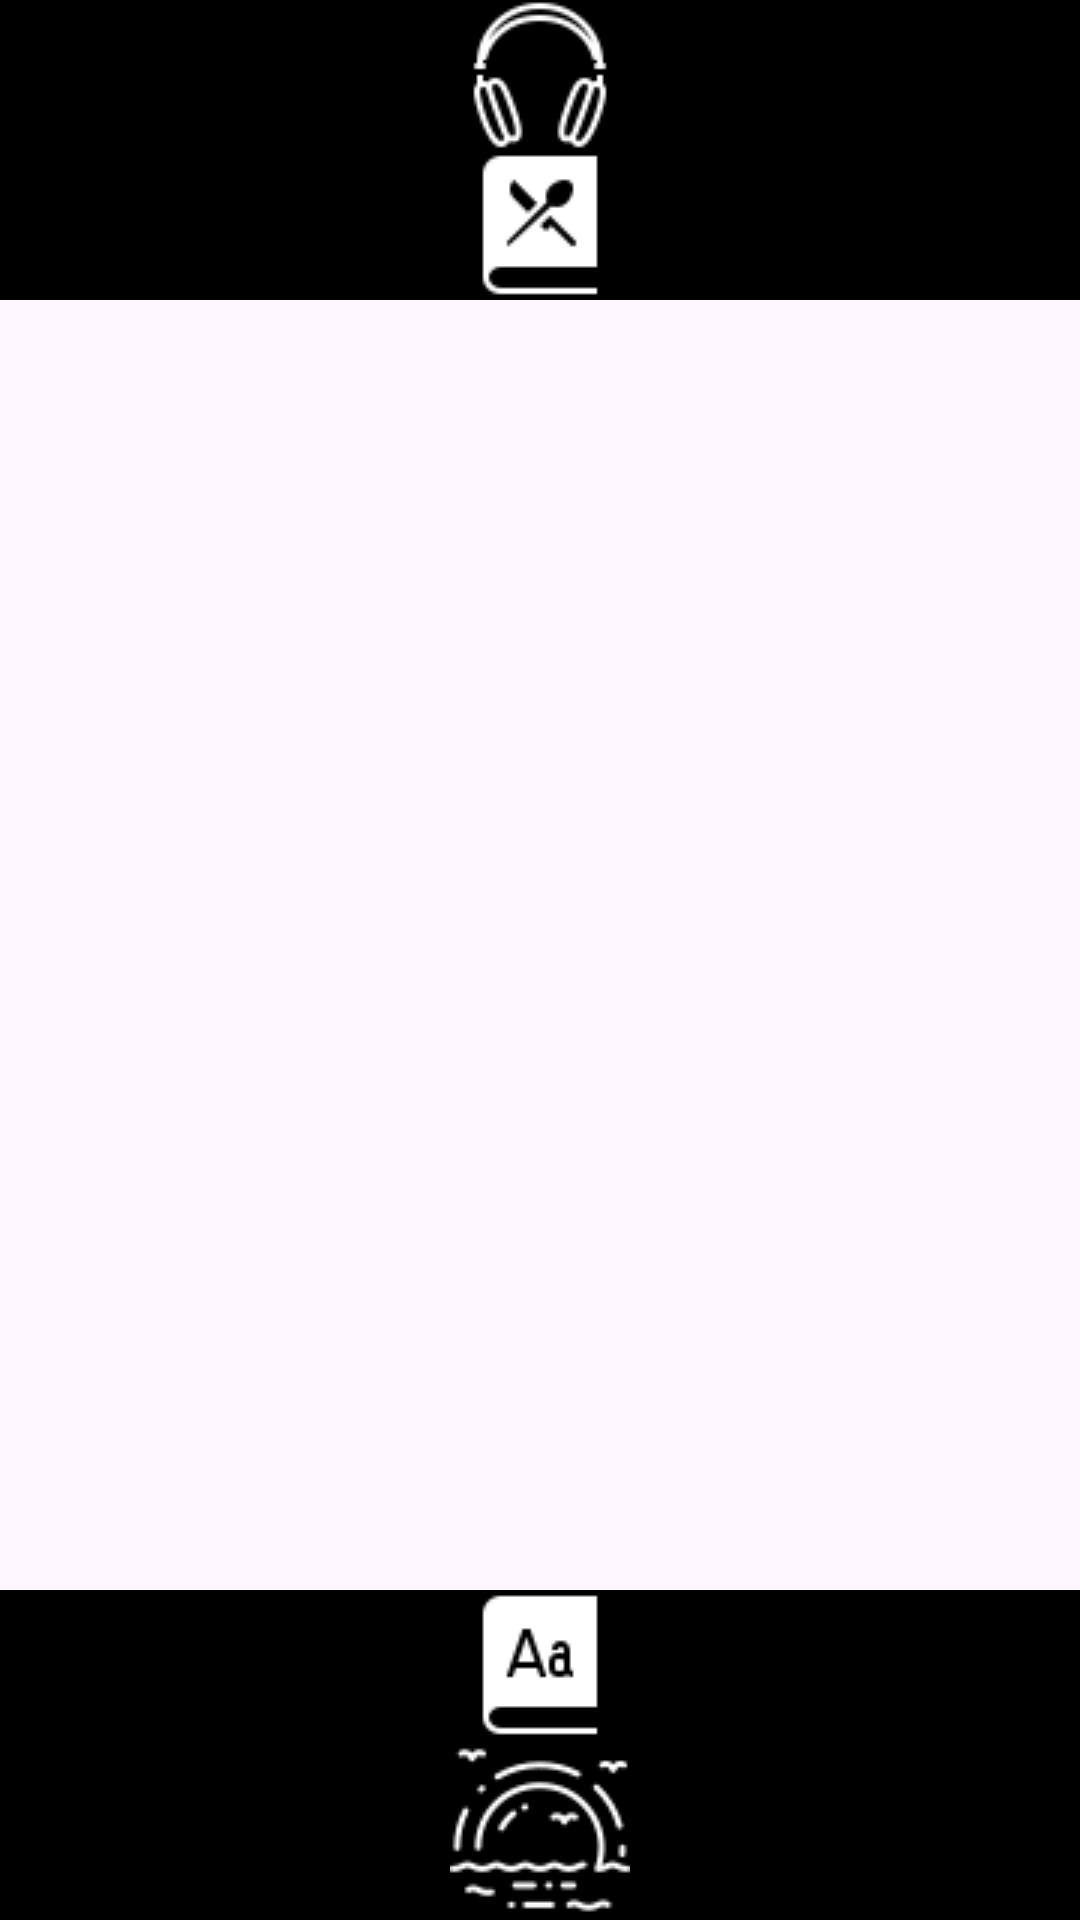

Named icons in this screenshot (1080*1920) and their bounding boxes, BBox(x1, y1, x2, y2):
dictionary: BBox(482, 1595, 598, 1735)
recipe: BBox(482, 155, 598, 295)
sunrise: BBox(450, 1748, 630, 1912)
